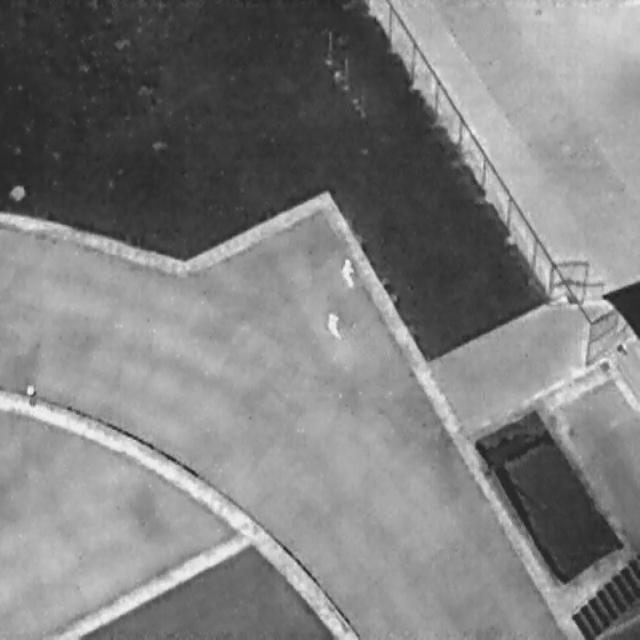Person: (325, 311, 340, 339), (341, 255, 354, 287), (23, 380, 37, 408)
